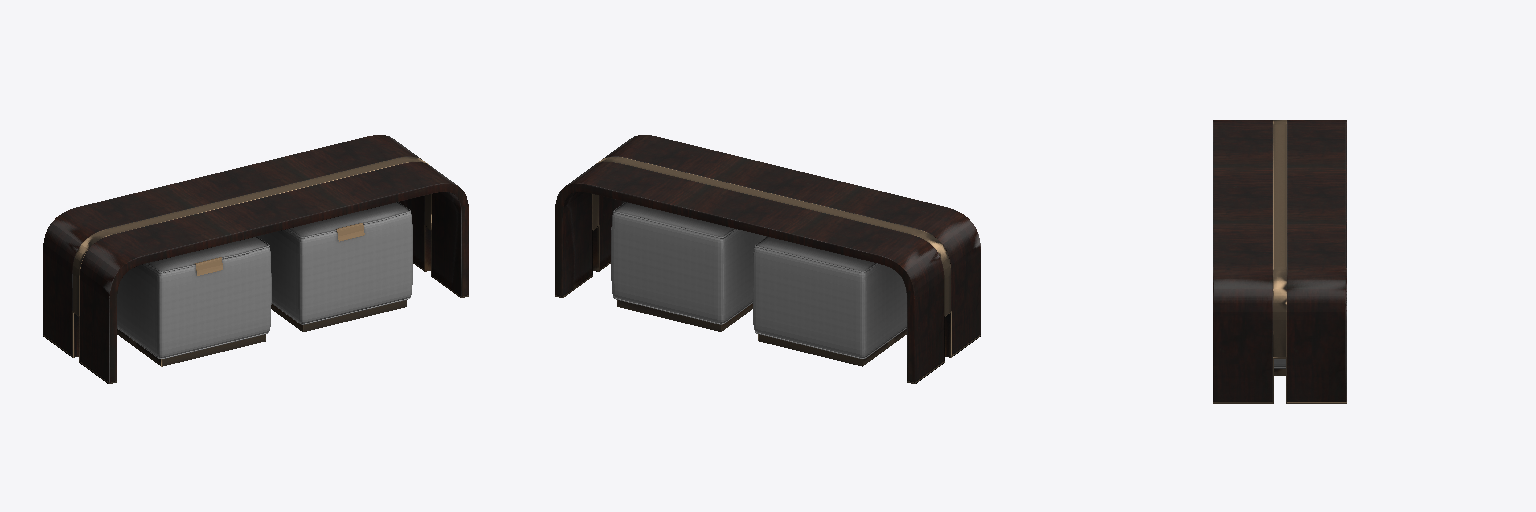
The picture shows the model from 3 angles: view 1: azimuth 30°, elevation 25°; view 2: azimuth 150°, elevation 25°; view 3: azimuth 270°, elevation 25°; orthographic projection.
Parts seen in each view (by area): view 1: solid_004, solid_002, solid_003, solid_001; view 2: solid_004, solid_002, solid_003; view 3: solid_004, solid_003.
Boxes of the visible parts, x1=… form: solid_004: x1=43, y1=135, x2=468, y2=382; solid_002: x1=117, y1=202, x2=412, y2=358; solid_003: x1=43, y1=157, x2=468, y2=383; solid_001: x1=195, y1=223, x2=364, y2=275; solid_004: x1=555, y1=135, x2=980, y2=382; solid_002: x1=611, y1=202, x2=906, y2=358; solid_003: x1=555, y1=157, x2=980, y2=383; solid_004: x1=1213, y1=120, x2=1346, y2=401; solid_003: x1=1213, y1=120, x2=1346, y2=403.
Bounding box in the file's own units: 1.6 × 0.4961 × 0.5435.
1 materials, 1 textured.